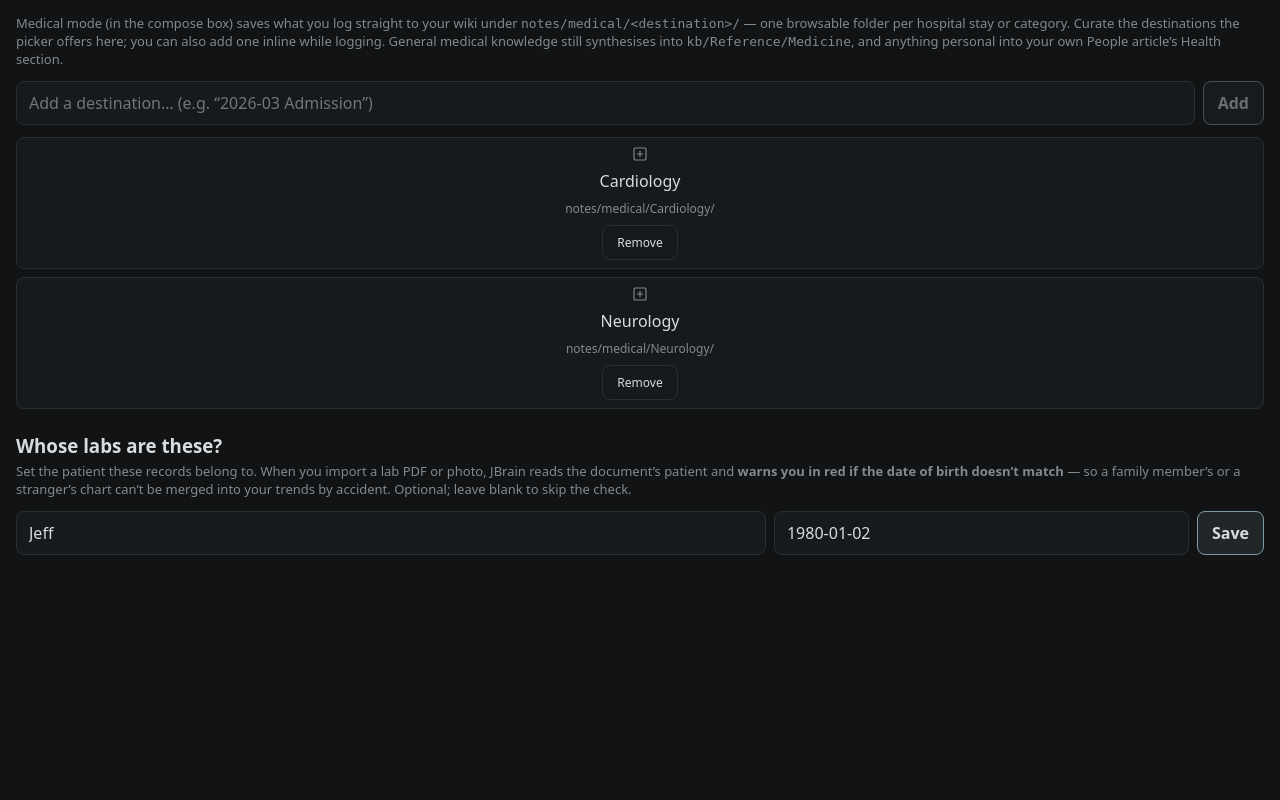
Test case: MedicalPage — remove destination › Remove (confirmed) PUTs the filtered list and drops the row
Click the 1st button "Remove" at (640, 242), box [602,225,678,260]
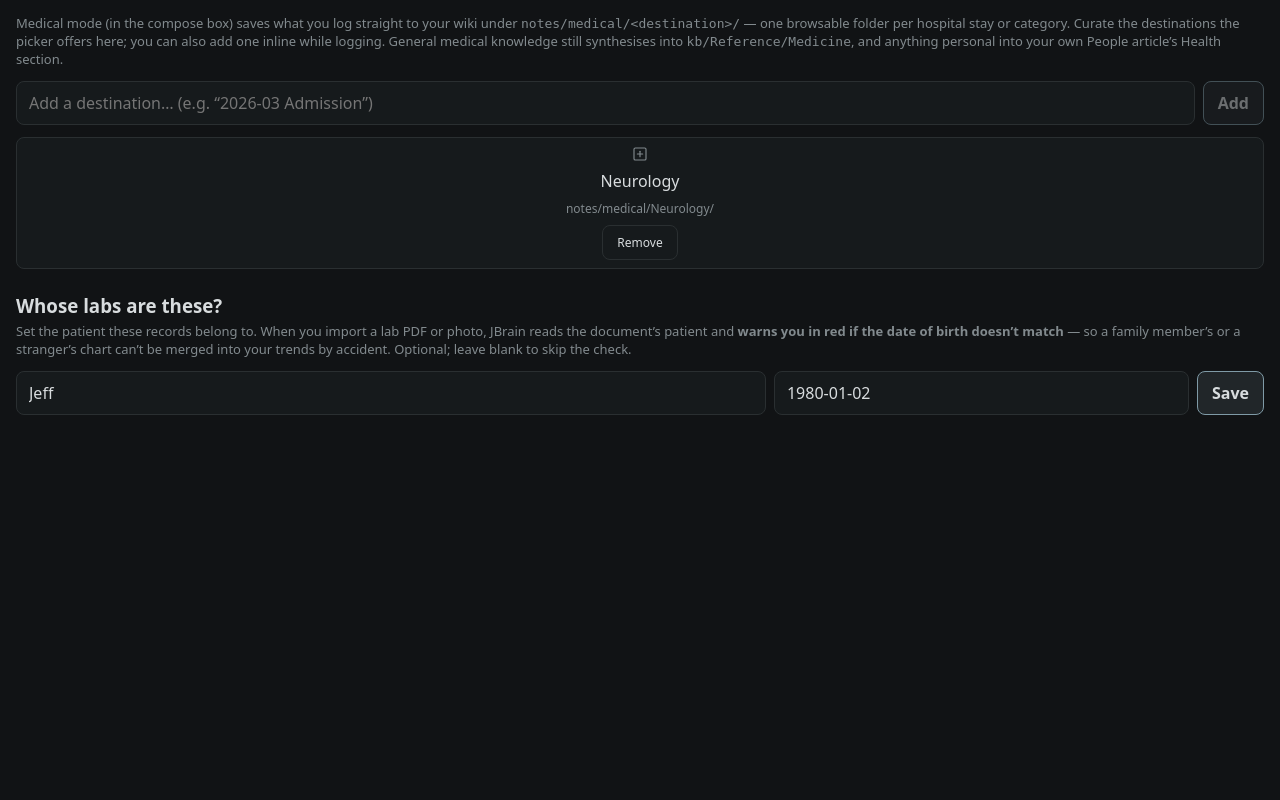
Expected: the text "Neurology" is shown, [601,170,680,192]
Now the text "Cardiology" is gone
